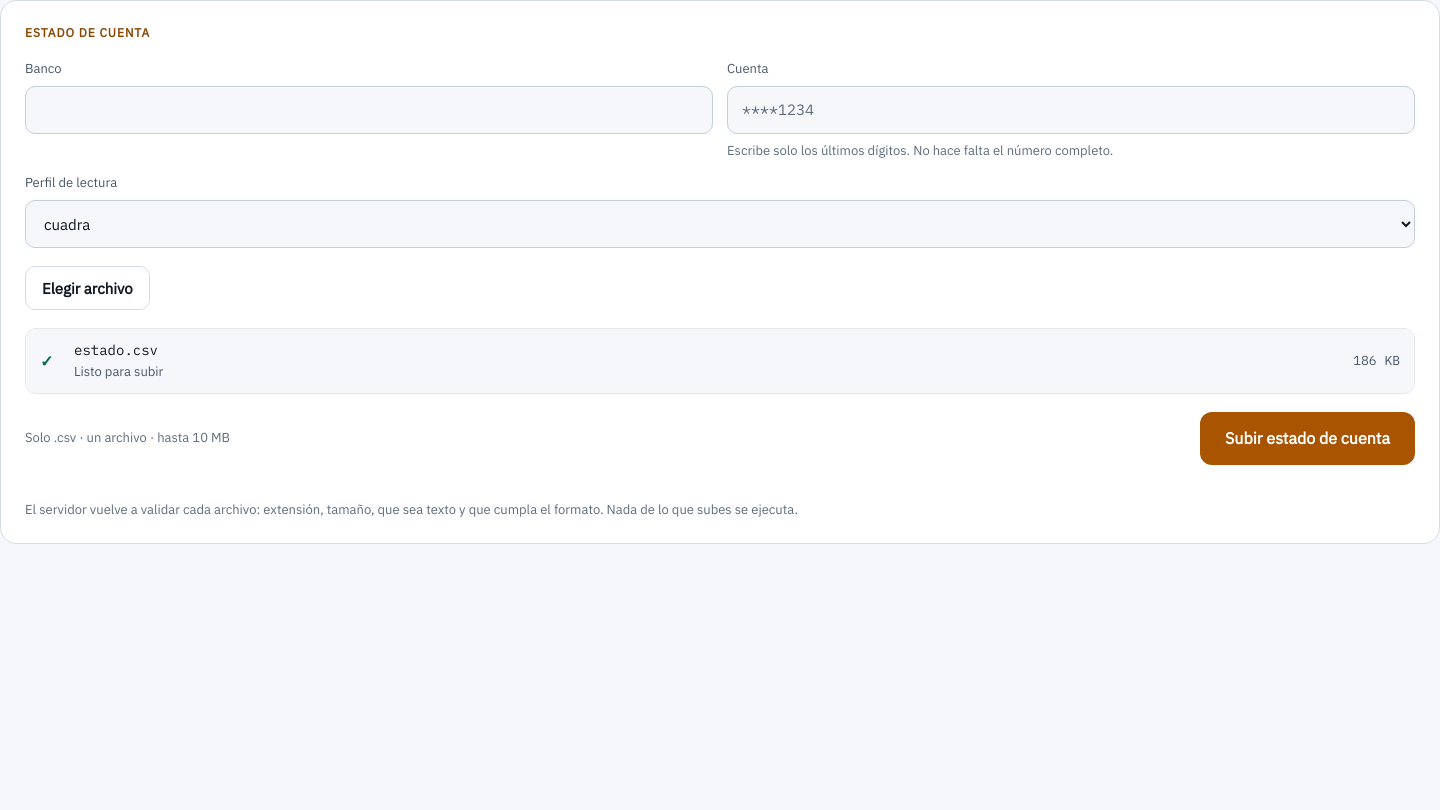
Test: TarjetaEstadoCuenta › con la cuenta completa avisa y el botón sigue activo (6.2)
The width and height of the screenshot is (1440, 810).
In the field labelled "Cuenta": (1071, 110) [727,86,1415,134], type "012345678901234567"
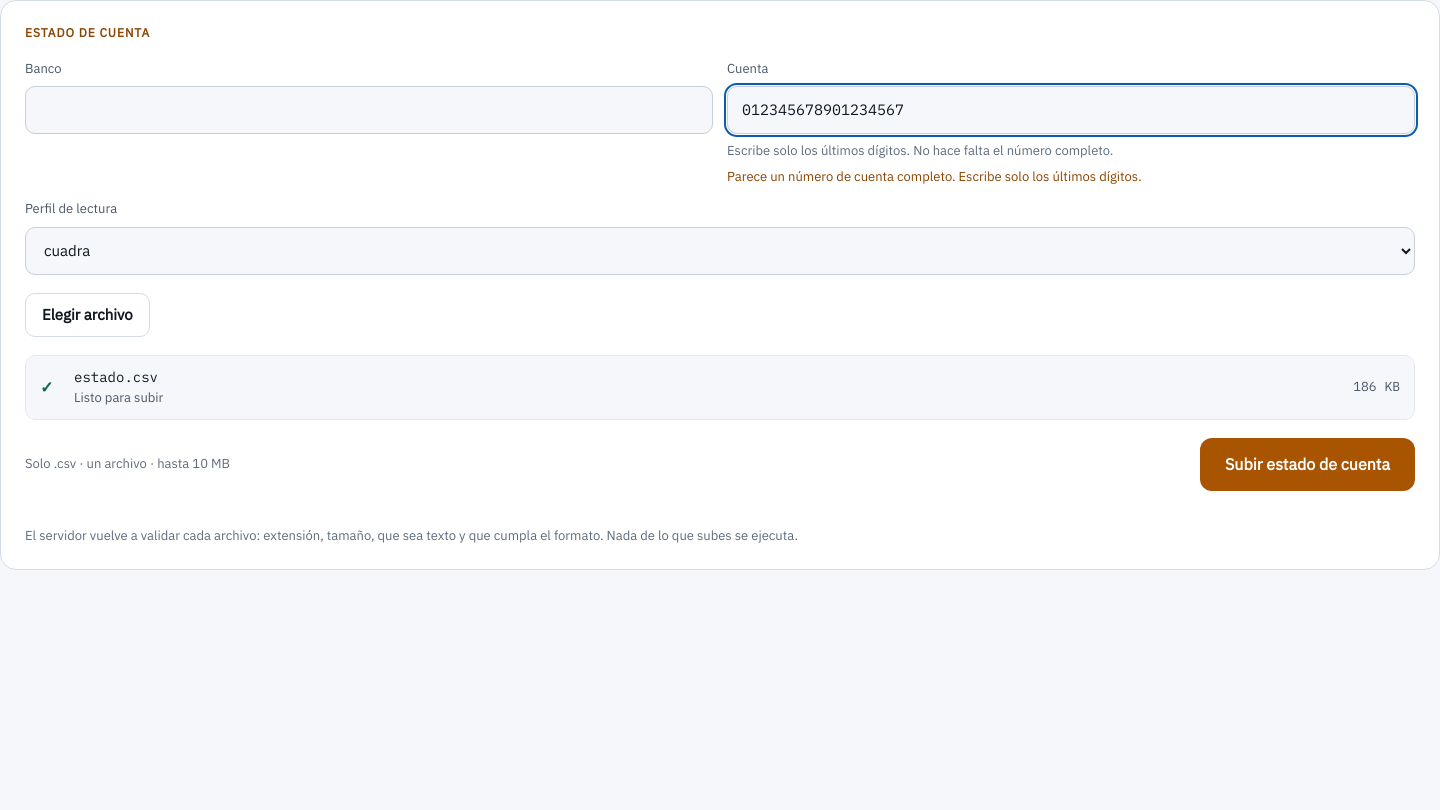
Expected: the button "Subir estado de cuenta" is enabled, [1200,438,1415,491]
Result: the text "Parece un número de cuenta completo. Escribe solo los últimos dígitos." is shown at [727,168,1142,185]
